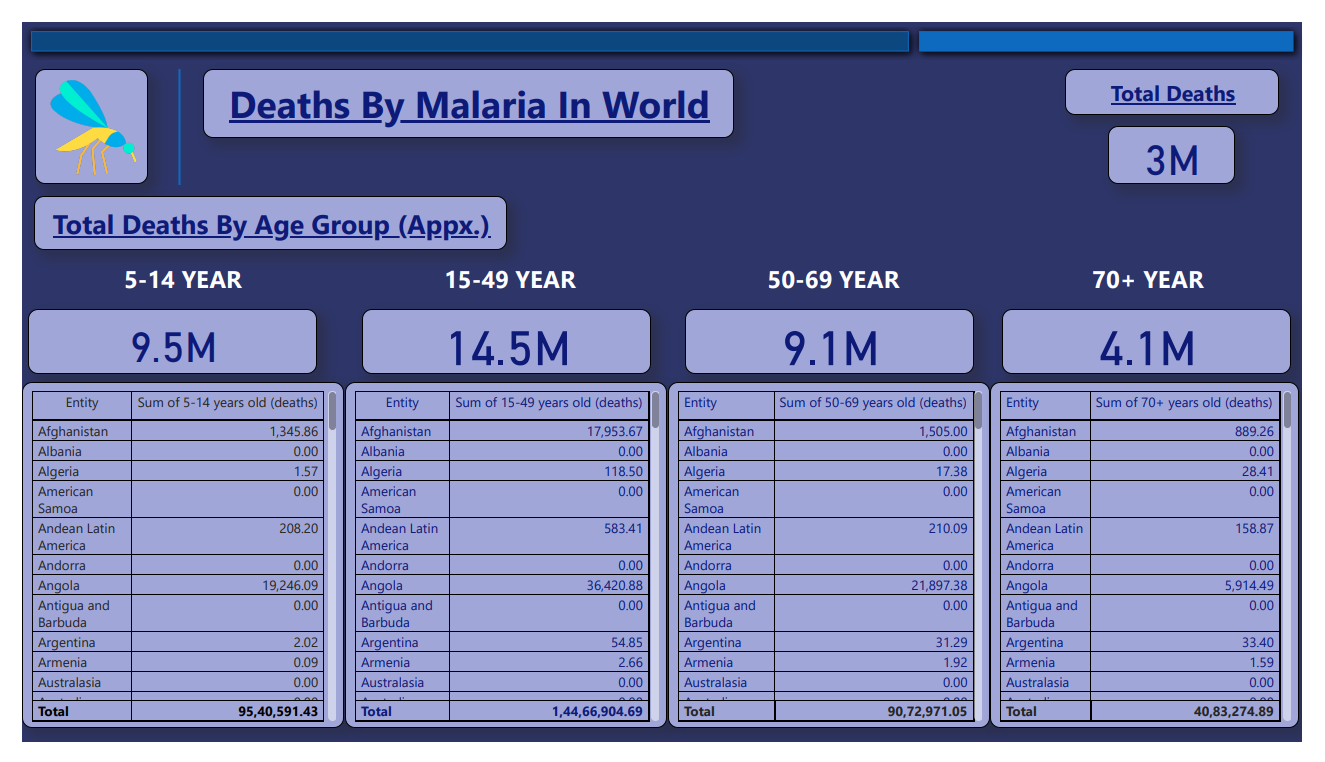

What the dashboard file says about the page in this screenshot:
{"tool":"powerbi","page":{"name":"Page 3","canvas":[1280,720],"ordinal":2},"visuals":[{"type":"shape","box":[0,0,894.7,38.1],"z":0},{"type":"shape","box":[889.4,0,391,38.1],"z":1000},{"type":"image","box":[13.2,46.5,113.3,115.9],"z":2000},{"type":"shape","box":[132.6,46.5,49.2,116.8],"z":3000},{"type":"textbox","box":[180.9,46.5,531.2,69.4],"z":4000},{"type":"textbox","box":[1043.1,46.5,214.2,46.5],"z":5000},{"type":"card","fields":{"Values":["Sum(global-malaria-deaths-by-world-region. (deaths))"]},"box":[1086.1,104.5,127.3,57.1],"z":6000},{"type":"textbox","box":[87.8,235.3,146.6,51.8],"z":7000},{"type":"textbox","box":[12.3,173.9,472.4,54.4],"z":8000},{"type":"textbox","box":[410.9,235.3,154.5,51.8],"z":9000},{"type":"textbox","box":[734,235.3,155.4,51.8],"z":10000},{"type":"textbox","box":[1052.8,235.3,146.6,51.8],"z":11000},{"type":"card","fields":{"Values":["Sum(malaria-deaths-by-age.5-14 years old (deaths))"]},"box":[6.1,287.1,288.9,65],"z":12000},{"type":"card","fields":{"Values":["Sum(malaria-deaths-by-age.15-49 years old (deaths))"]},"box":[339.8,287.1,288.9,65],"z":13000},{"type":"card","fields":{"Values":["Sum(malaria-deaths-by-age.50-69 years old (deaths))"]},"box":[662.9,287.1,288.9,65],"z":14000},{"type":"card","fields":{"Values":["Sum(malaria-deaths-by-age.70+ years old (deaths))"]},"box":[979.9,287.1,288.9,65],"z":15000},{"type":"tableEx","fields":{"Values":["malaria-deaths-by-age.Entity","Sum(malaria-deaths-by-age.5-14 years old (deaths))"]},"box":[0,360,322.2,346],"z":16000},{"type":"tableEx","fields":{"Values":["malaria-deaths-by-age.Entity","Sum(malaria-deaths-by-age.15-49 years old (deaths))"]},"box":[323.1,360,322.2,346],"z":17000},{"type":"tableEx","fields":{"Values":["malaria-deaths-by-age.Entity","Sum(malaria-deaths-by-age.50-69 years old (deaths))"]},"box":[646.2,360,322.2,346],"z":18000},{"type":"tableEx","fields":{"Values":["malaria-deaths-by-age.Entity","Sum(malaria-deaths-by-age.70+ years old (deaths))"]},"box":[968.5,360,308.2,346],"z":19000}]}

Visuals, with their boxes in screenshot pixels (x1, y1, x2, y2), scaled from the page's 1280x720 canvas onto the 1325x762 screenshot:
shape: <box>0,0,926,40</box>
shape: <box>921,0,1324,40</box>
image: <box>14,49,131,172</box>
shape: <box>137,49,188,173</box>
textbox: <box>187,49,737,123</box>
textbox: <box>1080,49,1302,98</box>
card - Sum(global-malaria-deaths-by-world-region. (deaths)): <box>1124,111,1256,171</box>
textbox: <box>91,249,243,304</box>
textbox: <box>13,184,502,242</box>
textbox: <box>425,249,585,304</box>
textbox: <box>760,249,921,304</box>
textbox: <box>1090,249,1242,304</box>
card - Sum(malaria-deaths-by-age.5-14 years old (deaths)): <box>6,304,305,373</box>
card - Sum(malaria-deaths-by-age.15-49 years old (deaths)): <box>352,304,651,373</box>
card - Sum(malaria-deaths-by-age.50-69 years old (deaths)): <box>686,304,985,373</box>
card - Sum(malaria-deaths-by-age.70+ years old (deaths)): <box>1014,304,1313,373</box>
tableEx - malaria-deaths-by-age.Entity x Sum(malaria-deaths-by-age.5-14 years old (deaths)): <box>0,381,334,747</box>
tableEx - malaria-deaths-by-age.Entity x Sum(malaria-deaths-by-age.15-49 years old (deaths)): <box>334,381,668,747</box>
tableEx - malaria-deaths-by-age.Entity x Sum(malaria-deaths-by-age.50-69 years old (deaths)): <box>669,381,1002,747</box>
tableEx - malaria-deaths-by-age.Entity x Sum(malaria-deaths-by-age.70+ years old (deaths)): <box>1003,381,1322,747</box>
